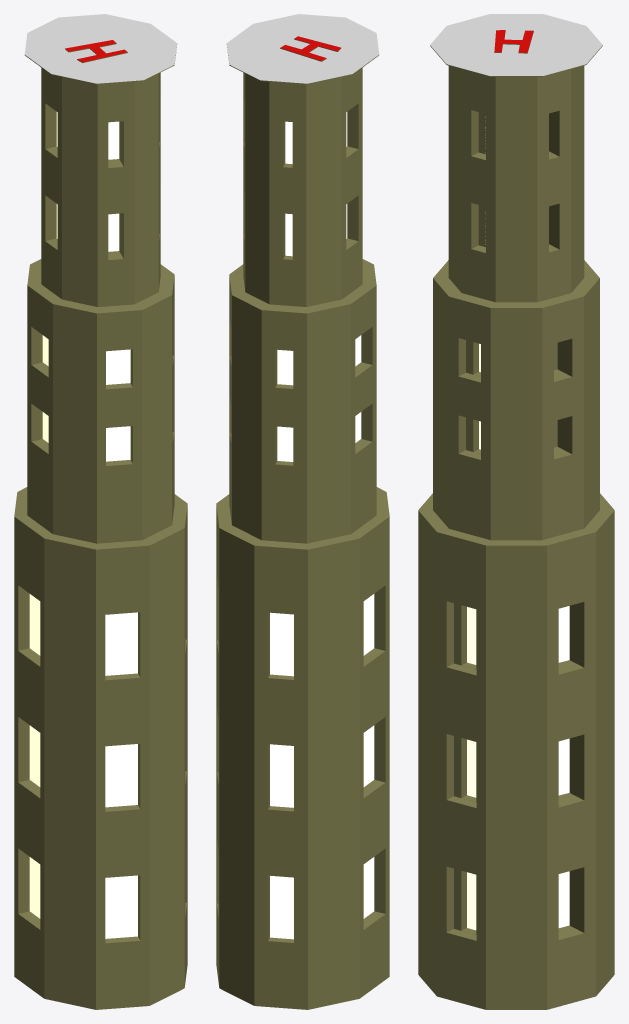
File: regniold_tower.fbx
3 renders of one model, left to right at view 1: azimuth 30°, elevation 25°; view 2: azimuth 150°, elevation 25°; view 3: azimuth 270°, elevation 25°, orthographic.
Visible parts, largest first — view 1: reginold_tower; view 2: reginold_tower; view 3: reginold_tower.
Part boxes in pixels (bbox=[...]): reginold_tower: bbox=[14, 14, 187, 1009]; reginold_tower: bbox=[216, 14, 389, 1009]; reginold_tower: bbox=[418, 14, 614, 1009].
Bounding box in the file's own units: 163 × 1002 × 192.
